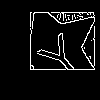Y: (29, 24, 86, 82)
